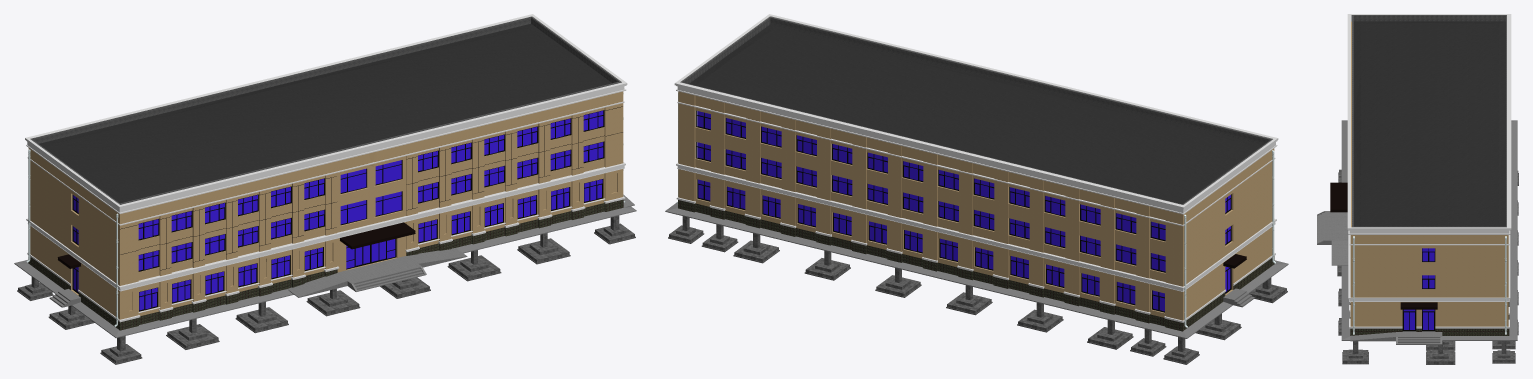
The model's file is ZhuTiLou.FBX.
3 views of the same model, side by side, from view 1: azimuth 30°, elevation 25°; view 2: azimuth 150°, elevation 25°; view 3: azimuth 270°, elevation 25° (orthographic). The views are drawn at different scales.
Parts seen in each view (by area): view 1: WaiQiang, WuMian, BoLi, NvErQiang, JiChu, Chuang, weiqiang, LeiJiao, ShanShui, Taijie, PoDao, YuPeng (+1 smaller); view 2: WaiQiang, WuMian, BoLi, NvErQiang, JiChu, weiqiang, Chuang, LeiJiao, ShanShui, LuoShuiGuan; view 3: WuMian, WaiQiang, NvErQiang, ShanShui, JiChu, weiqiang, Taijie, LeiJiao, YuPeng, PoDao, BoLi, LuoShuiGuan (+2 smaller).
Part boxes in pixels (x1,y1,x2,y2): WaiQiang: (28, 91, 623, 319); WuMian: (39, 24, 611, 203); BoLi: (73, 110, 603, 310); NvErQiang: (25, 14, 627, 216); JiChu: (17, 215, 635, 364); Chuang: (72, 110, 604, 311); weiqiang: (26, 101, 625, 322); LeiJiao: (28, 199, 623, 330); ShanShui: (14, 206, 636, 338); Taijie: (49, 256, 426, 307); PoDao: (287, 195, 634, 297); YuPeng: (57, 222, 415, 268); WaiQiang: (678, 91, 1274, 320); WuMian: (689, 24, 1263, 204); BoLi: (697, 111, 1230, 311); NvErQiang: (674, 14, 1278, 216); JiChu: (668, 216, 1287, 364); weiqiang: (676, 101, 1276, 322); Chuang: (696, 110, 1231, 312); LeiJiao: (678, 200, 1274, 331); ShanShui: (665, 203, 1288, 338); LuoShuiGuan: (676, 93, 1275, 327); WuMian: (1353, 21, 1505, 226); WaiQiang: (1350, 21, 1508, 326); NvErQiang: (1347, 14, 1511, 238); ShanShui: (1341, 120, 1517, 340); JiChu: (1337, 169, 1518, 364); weiqiang: (1348, 235, 1510, 328); Taijie: (1317, 211, 1442, 344); LeiJiao: (1350, 302, 1509, 335); YuPeng: (1330, 182, 1437, 309); PoDao: (1331, 240, 1395, 341); BoLi: (1403, 248, 1434, 329); LuoShuiGuan: (1353, 238, 1506, 334).
Bounding box in the file's own units: 59758 × 16231 × 22265.
